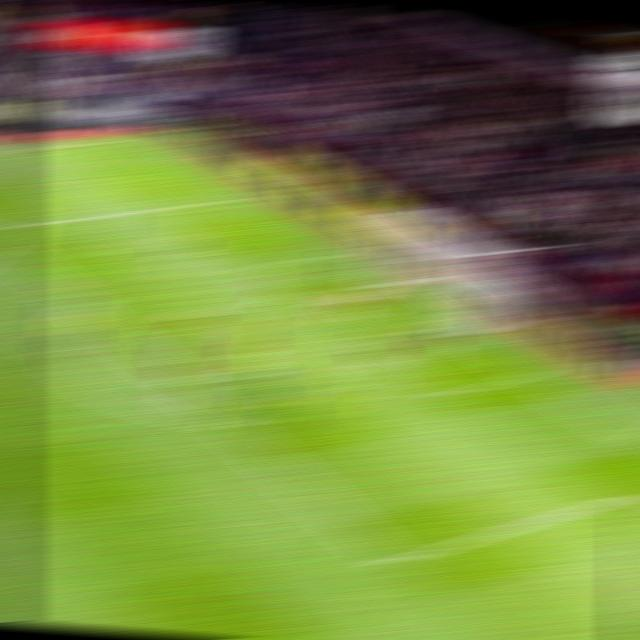bigarea_bottom_inner: (369, 546, 419, 578)
bigarea_top_outter: (211, 189, 250, 206)
bottom_arc_area_intersection: (206, 410, 249, 436)
corner: (108, 131, 152, 145)
smallarea_bottom_inner: (420, 378, 465, 407)
smallarea_bottom_outter: (505, 362, 550, 386)
smallarea_top_inner: (229, 256, 269, 277)
smallarea_top_outter: (305, 244, 346, 264)
top_arc_area_intersection: (63, 298, 103, 315)
